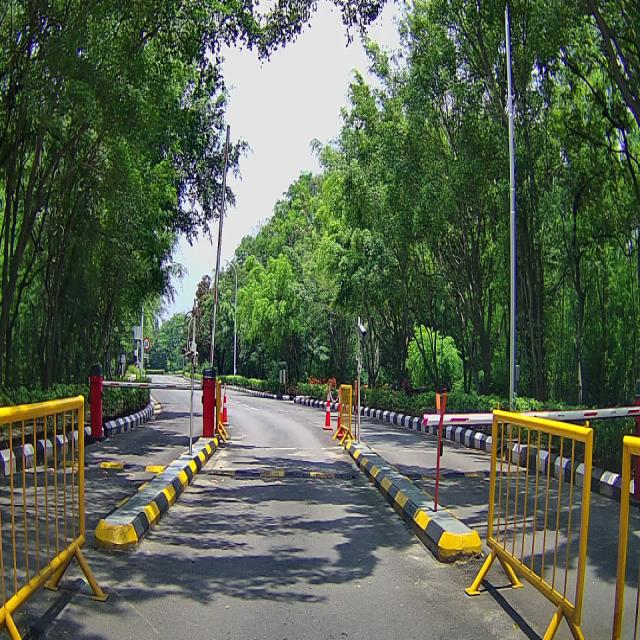barrier ahead at: (484, 402, 594, 634), (0, 398, 102, 640)
